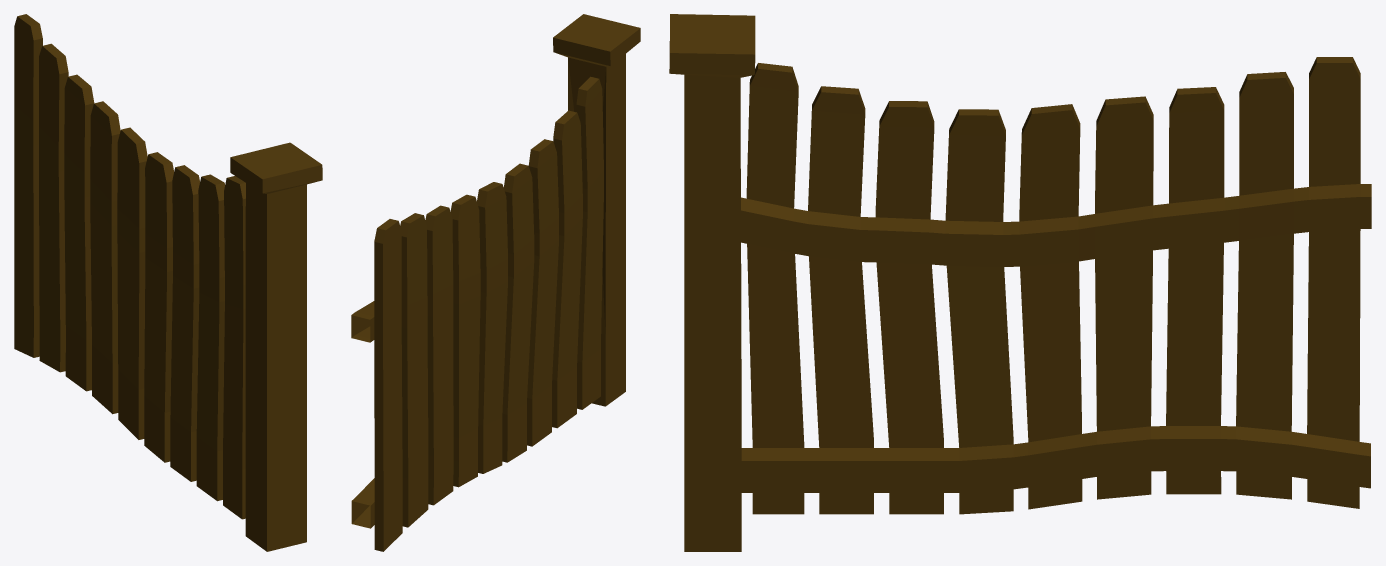
Rendered from Fence.fbx.
3 renders of one model, left to right at view 1: azimuth 30°, elevation 25°; view 2: azimuth 150°, elevation 25°; view 3: azimuth 270°, elevation 25°, orthographic. The views are drawn at different scales.
Visible parts, largest first — view 1: Cube.013; view 2: Cube.013; view 3: Cube.013.
Boxes of the visible parts, x1=… form: Cube.013: x1=14, y1=14, x2=322, y2=551; Cube.013: x1=351, y1=14, x2=640, y2=551; Cube.013: x1=669, y1=14, x2=1371, y2=551.
Size of the model in its own units: 16.28 by 97.98 by 123.
